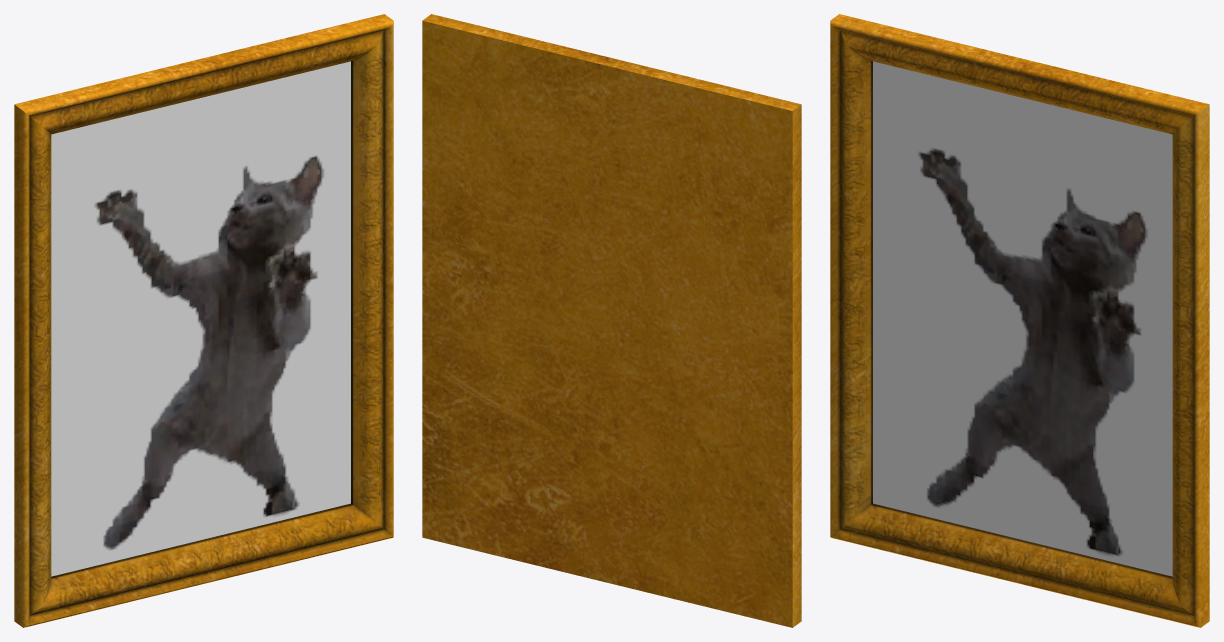
The model's file is katpainting.dae.
3 views of the same model, side by side, from view 1: azimuth 30°, elevation 25°; view 2: azimuth 150°, elevation 25°; view 3: azimuth 330°, elevation 25° (orthographic).
Visible parts, largest first — view 1: painting_image02, painting_frame02; view 2: painting_frame02; view 3: painting_image02, painting_frame02.
Boxes of the visible parts, <box> form: painting_image02: <box>51,61,350,576</box>; painting_frame02: <box>14,14,393,627</box>; painting_frame02: <box>422,14,801,627</box>; painting_image02: <box>873,61,1172,576</box>; painting_frame02: <box>830,14,1209,627</box>.
Size of the model in its own units: 1.8 by 2.4 by 0.0927.
